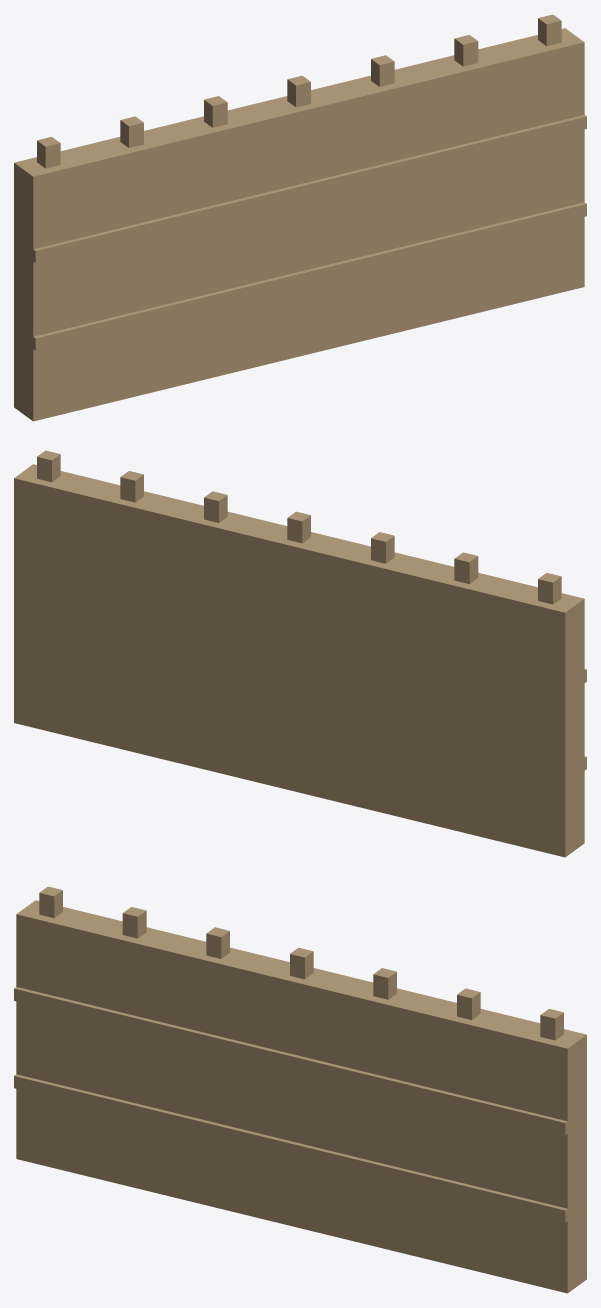
Rendered from palisade.gltf.
3 renders of one model, top to bottom at view 1: azimuth 30°, elevation 25°; view 2: azimuth 150°, elevation 25°; view 3: azimuth 330°, elevation 25°, orthographic.
Parts seen in each view (by area): view 1: COL_palisade, palisade_binder_b, palisade_binder_a, palisade_tip_5, palisade_tip_4, palisade_tip_1, palisade_tip_2, palisade_tip_3, palisade_tip_6, palisade_tip_0; view 2: COL_palisade, palisade_tip_1, palisade_tip_0, palisade_tip_2, palisade_tip_3, palisade_tip_4, palisade_tip_5, palisade_tip_6; view 3: COL_palisade, palisade_binder_b, palisade_binder_a, palisade_tip_1, palisade_tip_2, palisade_tip_0, palisade_tip_3, palisade_tip_4, palisade_tip_5, palisade_tip_6.
Boxes of the visible parts, bbox=[...] form: COL_palisade: bbox=[14, 28, 584, 421]; palisade_binder_b: bbox=[31, 202, 586, 350]; palisade_binder_a: bbox=[31, 115, 586, 263]; palisade_tip_5: bbox=[454, 35, 478, 66]; palisade_tip_4: bbox=[371, 55, 394, 86]; palisade_tip_1: bbox=[120, 116, 143, 147]; palisade_tip_2: bbox=[204, 96, 227, 127]; palisade_tip_3: bbox=[287, 75, 310, 107]; palisade_tip_6: bbox=[538, 14, 561, 46]; palisade_tip_0: bbox=[37, 137, 60, 168]; COL_palisade: bbox=[14, 464, 584, 857]; palisade_tip_1: bbox=[454, 552, 478, 583]; palisade_tip_0: bbox=[538, 573, 561, 604]; palisade_tip_2: bbox=[371, 532, 394, 563]; palisade_tip_3: bbox=[287, 511, 310, 543]; palisade_tip_4: bbox=[204, 491, 227, 522]; palisade_tip_5: bbox=[120, 471, 143, 502]; palisade_tip_6: bbox=[37, 450, 60, 482]; COL_palisade: bbox=[16, 900, 586, 1293]; palisade_binder_b: bbox=[14, 1074, 569, 1222]; palisade_binder_a: bbox=[14, 987, 569, 1135]; palisade_tip_1: bbox=[122, 907, 146, 938]; palisade_tip_2: bbox=[206, 927, 229, 958]; palisade_tip_0: bbox=[39, 886, 62, 918]; palisade_tip_3: bbox=[290, 947, 313, 979]; palisade_tip_4: bbox=[373, 968, 396, 999]; palisade_tip_5: bbox=[457, 988, 480, 1019]; palisade_tip_6: bbox=[540, 1009, 563, 1040].
Size of the model in its own units: 6.6 by 3.05 by 0.45.
